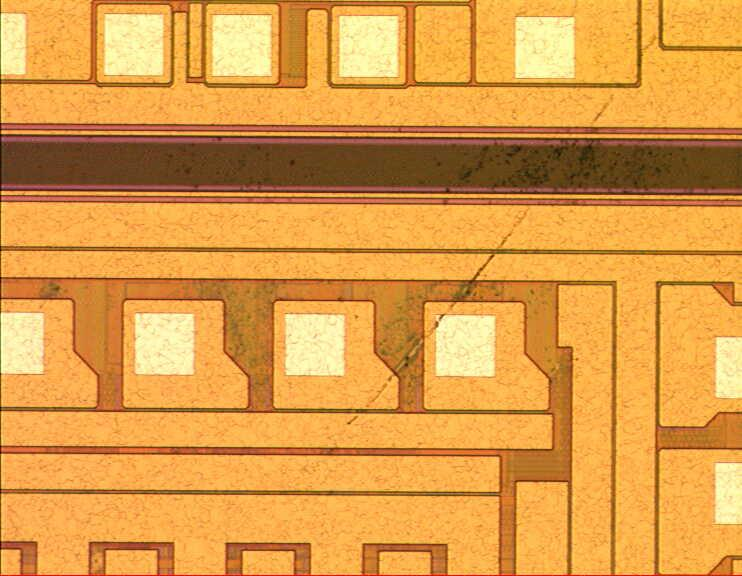PO CONTAMINATION: (161, 13, 708, 438)
